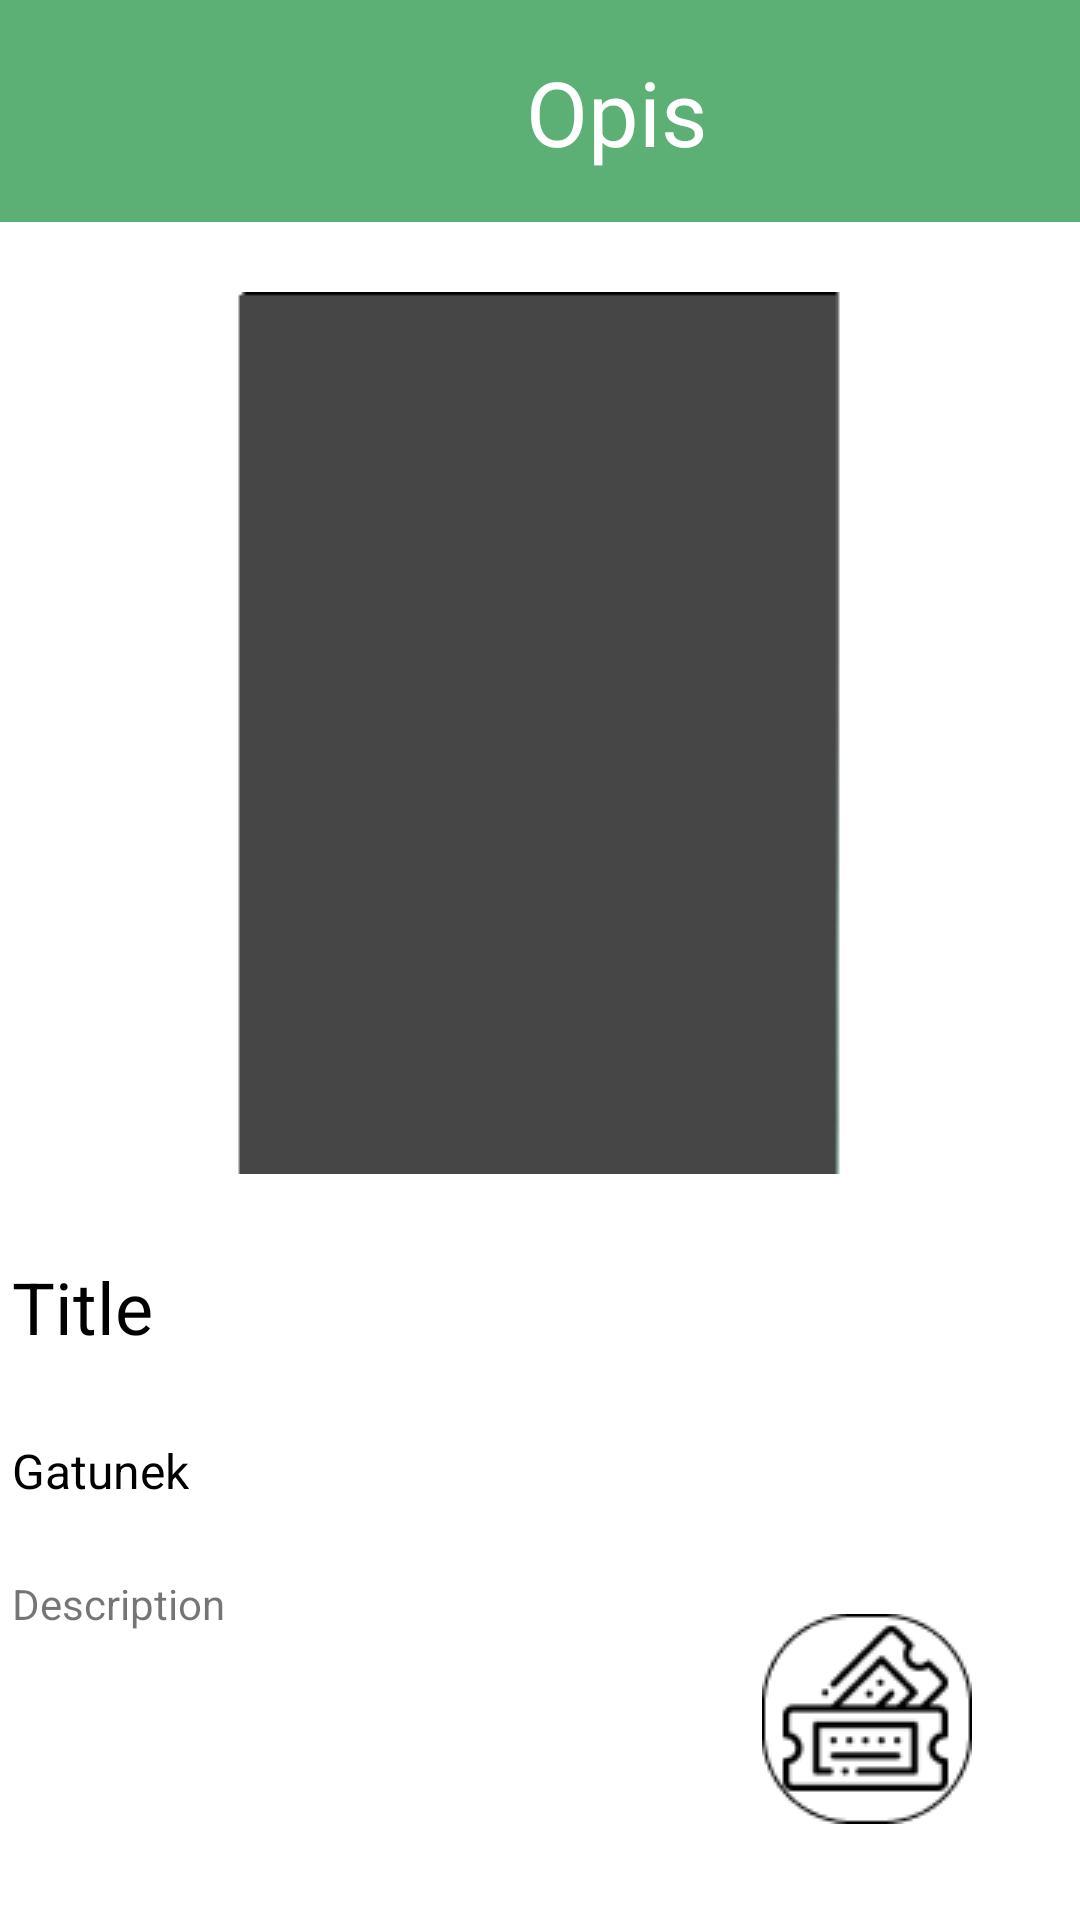

Named icons in this screenshot (1080x1920) and their centers, (x,y):
buy ticket: (867,1719)
